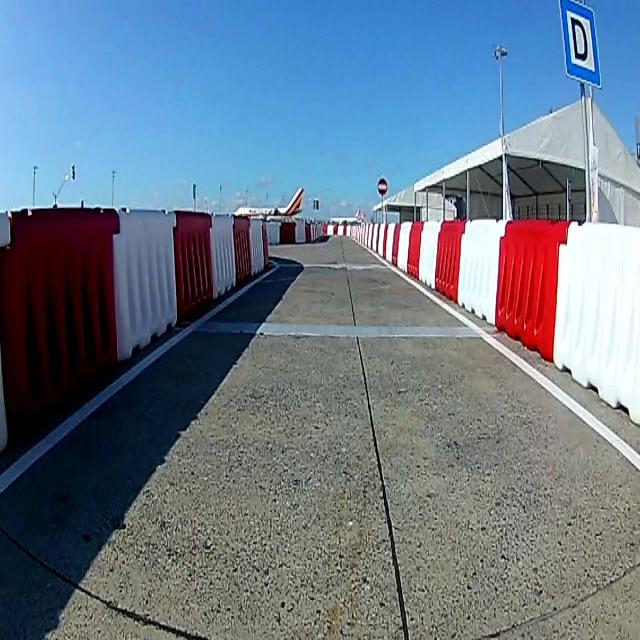durak: (561, 1, 601, 87)
girisyok: (376, 174, 388, 198)
